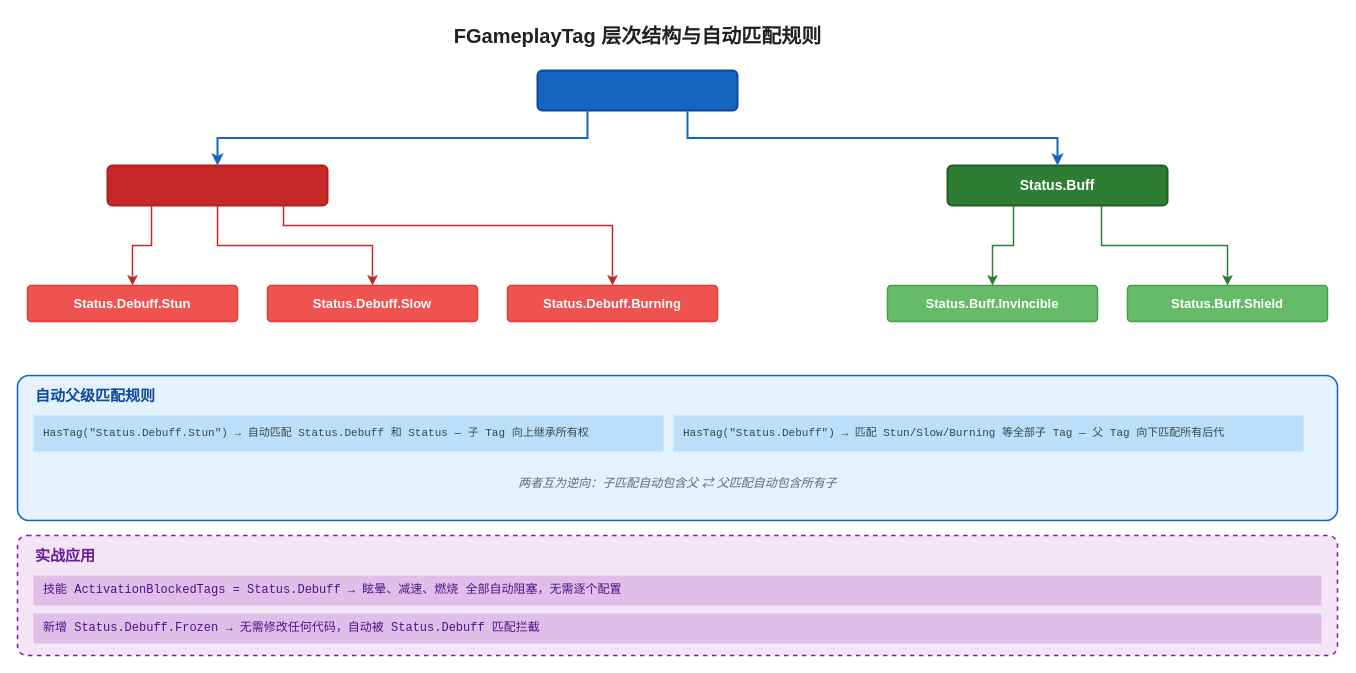
This 1356x673 diagram has some shape labels left out. The centre of each missing label's shape, as x and y in pixels:
Status.Debuff: the point at 217,185
Status（根 Tag）: the point at 637,90
